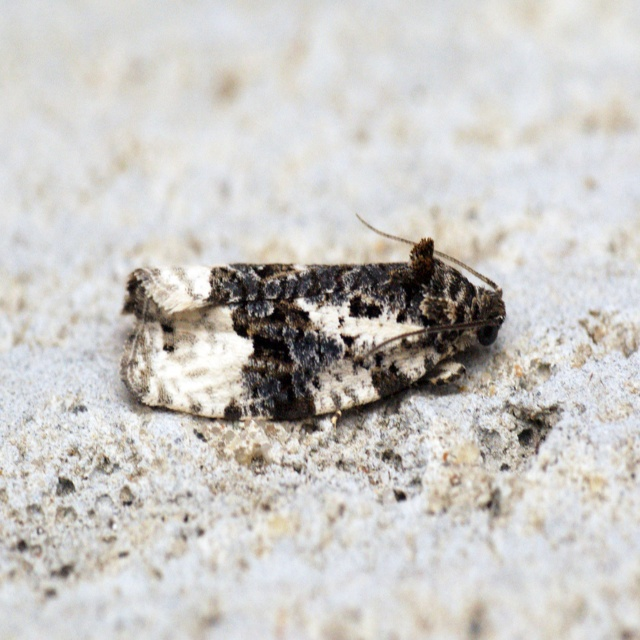Moths and butterflies: (118, 212, 507, 423)
